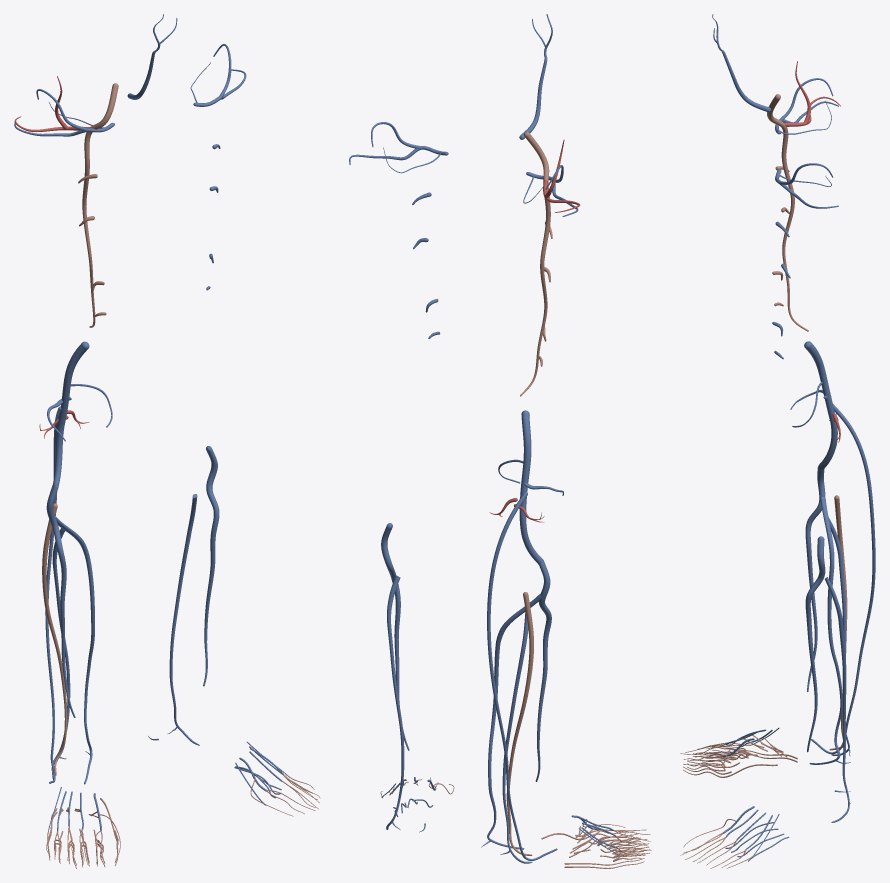
Rendered from other-31.glb.
3 views of the same model, side by side, from view 1: azimuth 30°, elevation 25°; view 2: azimuth 150°, elevation 25°; view 3: azimuth 270°, elevation 25° (orthographic). The views are drawn at different scales.
Parts seen in each view (by area): view 1: FJ2183, FJ2193, FJ2203, FJ2171, FJ2173, FJ2197, FJ2176, FJ2187, FJ2200, FJ2201; view 2: FJ2176, FJ2203, FJ2173, FJ2171, FJ2197, FJ2193, FJ2187, FJ2183, FJ2200, FJ2175, FJ2188; view 3: FJ2176, FJ2173, FJ2183, FJ2203, FJ2193, FJ2171, FJ2187, FJ2200, FJ2175, FJ2197, FJ2185, FJ2205 (+6 smaller).
Boxes of the visible parts, x1,y1,x2,y2 form: FJ2183: [203, 446, 219, 686]; FJ2193: [46, 485, 75, 717]; FJ2203: [82, 83, 118, 327]; FJ2171: [53, 341, 89, 486]; FJ2173: [55, 516, 94, 784]; FJ2197: [42, 503, 67, 775]; FJ2176: [45, 406, 61, 783]; FJ2187: [169, 494, 199, 745]; FJ2200: [51, 528, 70, 779]; FJ2201: [14, 89, 114, 136]; FJ2176: [487, 492, 557, 860]; FJ2203: [520, 131, 550, 396]; FJ2173: [487, 593, 541, 849]; FJ2171: [519, 410, 544, 565]; FJ2197: [506, 592, 533, 855]; FJ2193: [535, 563, 551, 781]; FJ2187: [386, 575, 404, 829]; FJ2183: [381, 523, 409, 750]; FJ2200: [502, 611, 532, 863]; FJ2175: [541, 833, 649, 868]; FJ2188: [349, 122, 448, 164]; FJ2176: [811, 404, 875, 754]; FJ2173: [809, 497, 842, 764]; FJ2183: [805, 536, 825, 752]; FJ2203: [767, 94, 808, 331]; FJ2193: [805, 467, 825, 691]; FJ2171: [804, 341, 837, 469]; FJ2187: [825, 577, 849, 822]; FJ2200: [828, 517, 849, 755]; FJ2175: [683, 750, 797, 777]; FJ2197: [829, 495, 847, 750]; FJ2185: [680, 819, 754, 868]; FJ2205: [683, 747, 797, 774].
Bounding box in the file's own units: 0.3399 × 1.01 × 0.2271.
